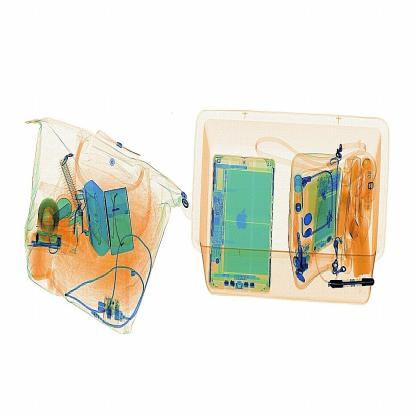knife: (328, 273, 378, 290)
